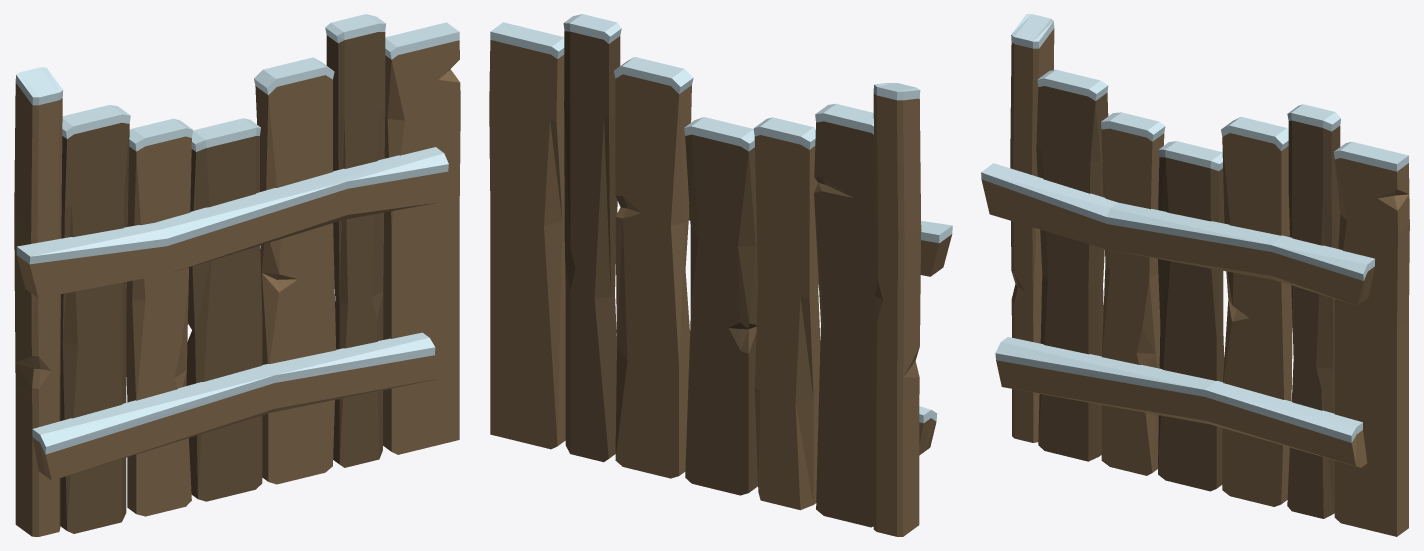
File: SM_Prop_Fence_Wood_03_Snow.fbx
3 renders of one model, left to right at view 1: azimuth 30°, elevation 25°; view 2: azimuth 150°, elevation 25°; view 3: azimuth 330°, elevation 25°, orthographic. The views are drawn at different scales.
Visible parts, largest first — view 1: SM_Prop_Fence_Wood_03_Snow; view 2: SM_Prop_Fence_Wood_03_Snow; view 3: SM_Prop_Fence_Wood_03_Snow.
Boxes of the visible parts, x1,y1,x2,y2 form: SM_Prop_Fence_Wood_03_Snow: (14,14,460,536); SM_Prop_Fence_Wood_03_Snow: (489,14,952,536); SM_Prop_Fence_Wood_03_Snow: (981,14,1409,536).
Bounding box in the file's own units: 175 × 172 × 23.31.
